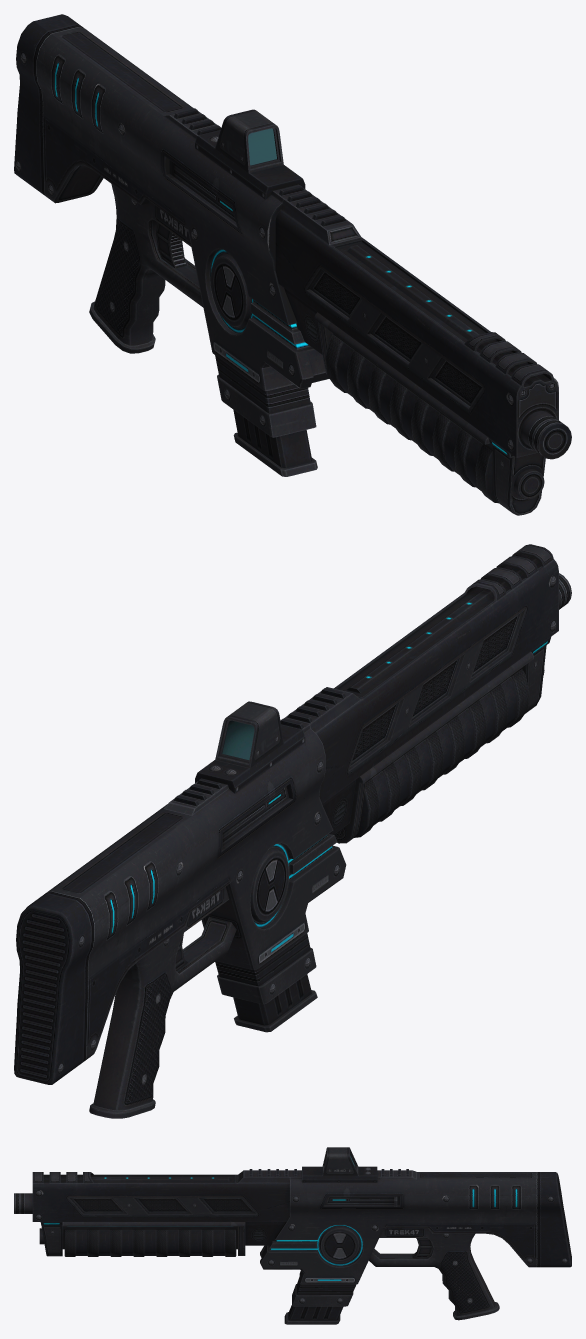
File: trek47rifle.dae
3 views of the same model, one above another, from view 1: azimuth 30°, elevation 25°; view 2: azimuth 150°, elevation 25°; view 3: azimuth 270°, elevation 25° (orthographic). The views are drawn at different scales.
Parts seen in each view (by area): view 1: TREK-47 Automatic Rifle; view 2: TREK-47 Automatic Rifle, TREK-47 Automatic Rifle Screen; view 3: TREK-47 Automatic Rifle.
Boxes of the visible parts, left/top/right/bottom form: TREK-47 Automatic Rifle: left=14, top=14, right=571, bottom=515; TREK-47 Automatic Rifle: left=14, top=544, right=571, bottom=1118; TREK-47 Automatic Rifle Screen: left=222, top=720, right=254, bottom=759; TREK-47 Automatic Rifle: left=14, top=1147, right=571, bottom=1324.
Size of the model in its own units: 0.333 by 4.39 by 1.47.
